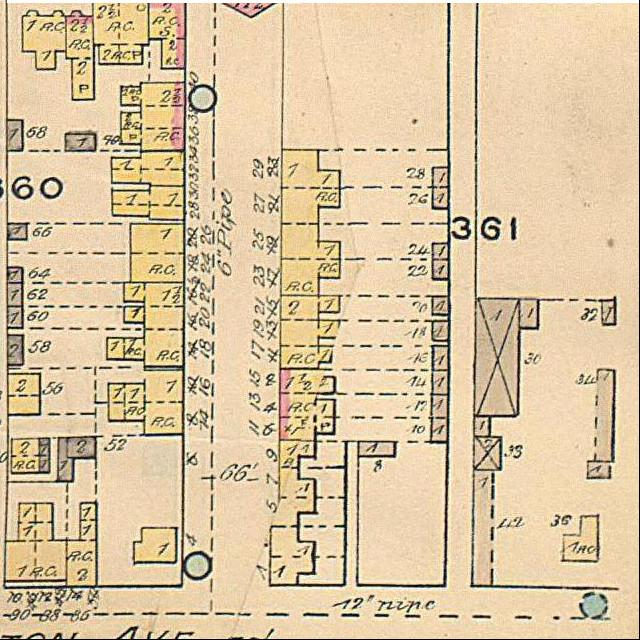building-footprints: (281, 150, 341, 369), (271, 441, 316, 585), (475, 299, 520, 416), (124, 283, 184, 367), (109, 370, 184, 435), (5, 504, 67, 582), (122, 83, 186, 152), (280, 369, 335, 441), (93, 4, 149, 65), (131, 224, 184, 283), (112, 151, 185, 187), (23, 11, 67, 70), (67, 504, 97, 588), (66, 11, 94, 100), (112, 187, 185, 221), (473, 470, 494, 587), (149, 4, 186, 69), (596, 370, 614, 462), (59, 438, 96, 482), (564, 516, 599, 562), (134, 528, 177, 563), (8, 374, 40, 415), (12, 439, 50, 473), (474, 437, 502, 470), (520, 299, 539, 329), (359, 442, 395, 457), (66, 134, 97, 151), (7, 121, 23, 151), (8, 335, 23, 366), (588, 462, 611, 479), (433, 371, 449, 395), (108, 338, 125, 360), (432, 419, 448, 442), (433, 395, 449, 418), (8, 283, 23, 307), (434, 346, 449, 370), (474, 416, 491, 437), (433, 321, 449, 342), (602, 301, 616, 325), (8, 307, 23, 329), (434, 187, 449, 209), (433, 296, 449, 316), (433, 168, 449, 188), (433, 260, 449, 280), (8, 224, 27, 240), (433, 244, 449, 260), (8, 268, 22, 283)
